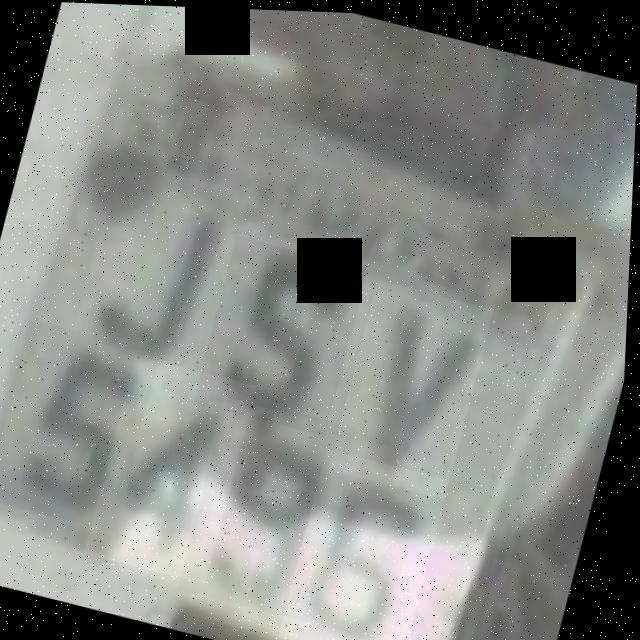4: (87, 352, 260, 583)
5: (0, 318, 164, 532)
6: (281, 445, 455, 640)
9: (182, 392, 361, 620)
J: (71, 158, 242, 380)
S: (195, 233, 371, 435)
V: (331, 275, 497, 497)
